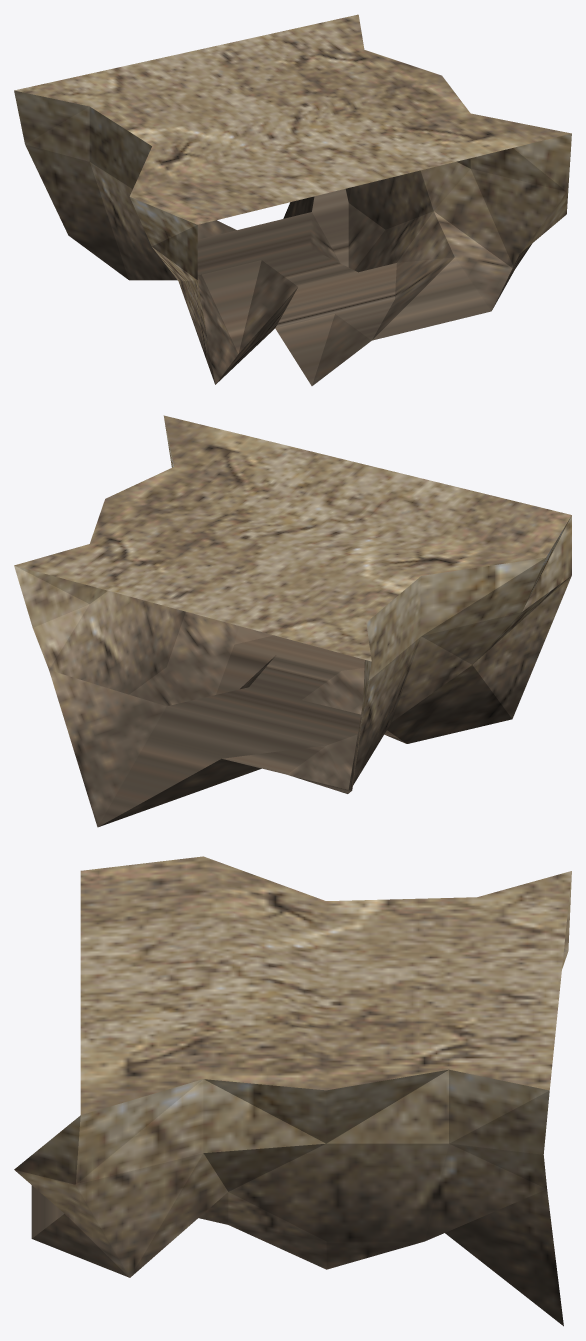
3 views of the same model, one above another, from view 1: azimuth 30°, elevation 25°; view 2: azimuth 150°, elevation 25°; view 3: azimuth 270°, elevation 25° (orthographic). The views are drawn at different scales.
Visible parts, largest first — view 1: SMDImport; view 2: SMDImport; view 3: SMDImport.
Part boxes in pixels (<box>): SMDImport: <box>14,14,571,385</box>; SMDImport: <box>14,415,571,827</box>; SMDImport: <box>14,856,571,1326</box>.
Size of the model in its own units: 501 by 261 by 456.
